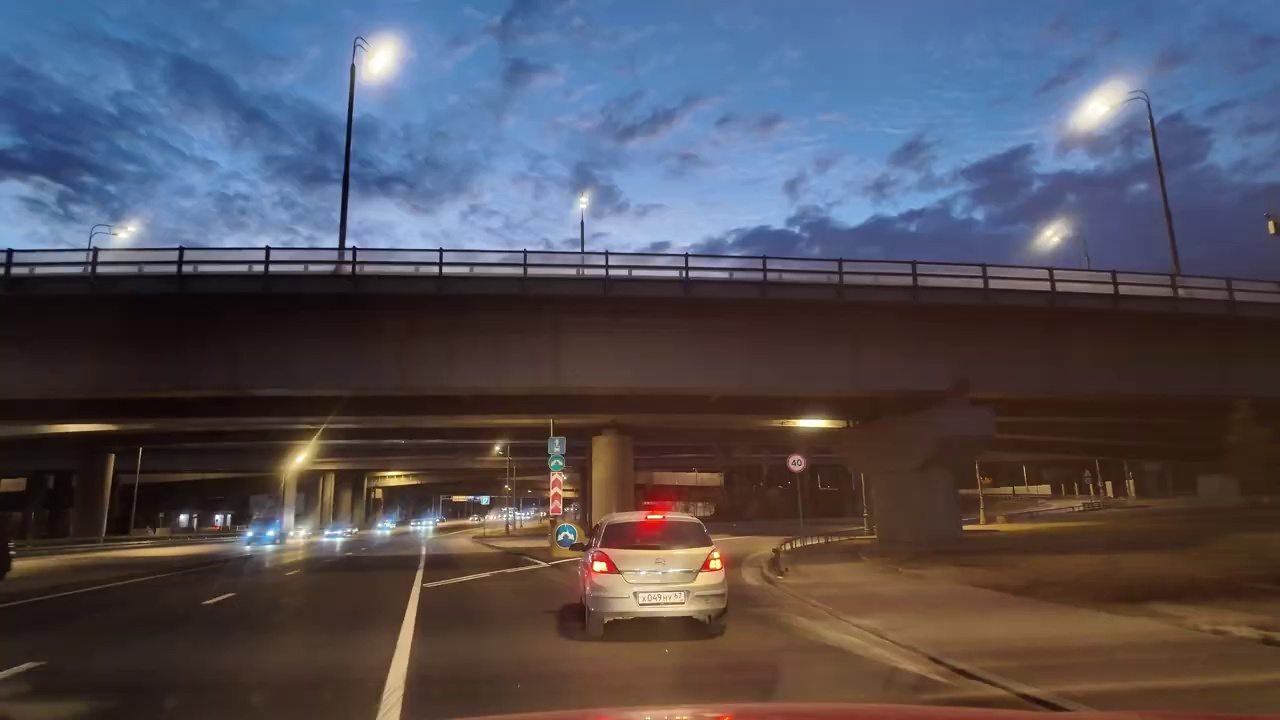acesa: (1077, 88, 1120, 128), (359, 38, 399, 78), (1032, 216, 1071, 250), (286, 437, 320, 475), (382, 471, 406, 496)
